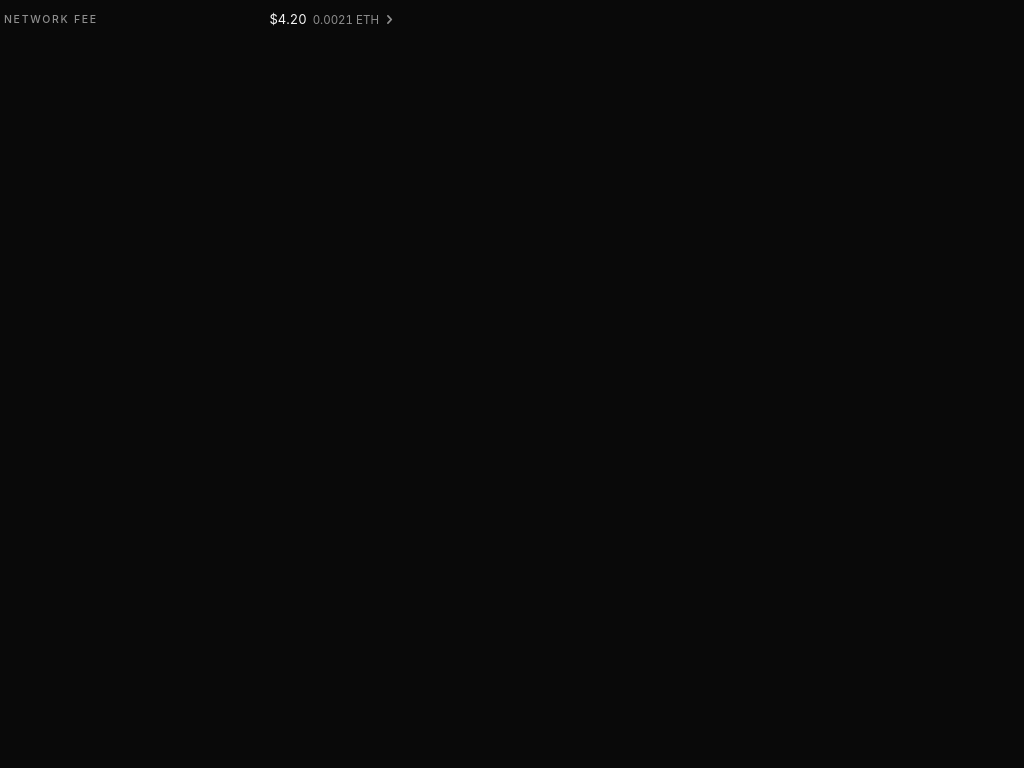
Test case: Network fee row › keeps Use custom fee off and explains in a card when below the base fee
Later steps or results of the test are not shown.
Click the button with aria-label "Edit network fee": point(51, 20) [0,0,400,40]
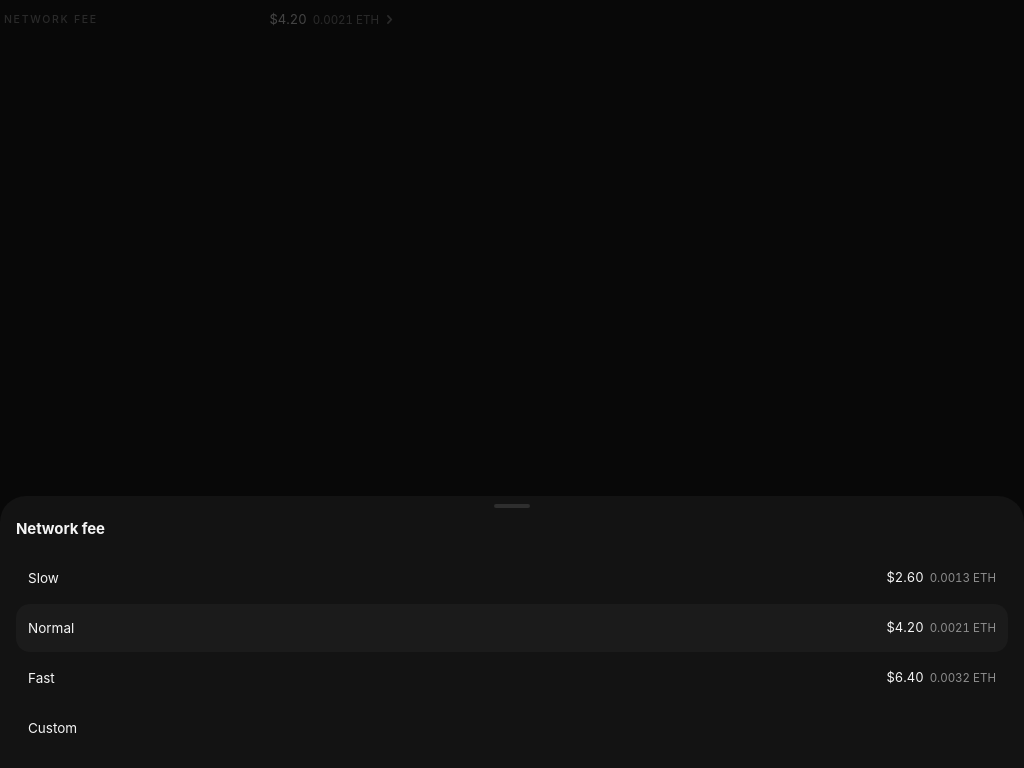
Click the button "Custom": point(53, 728) [16,704,1008,752]
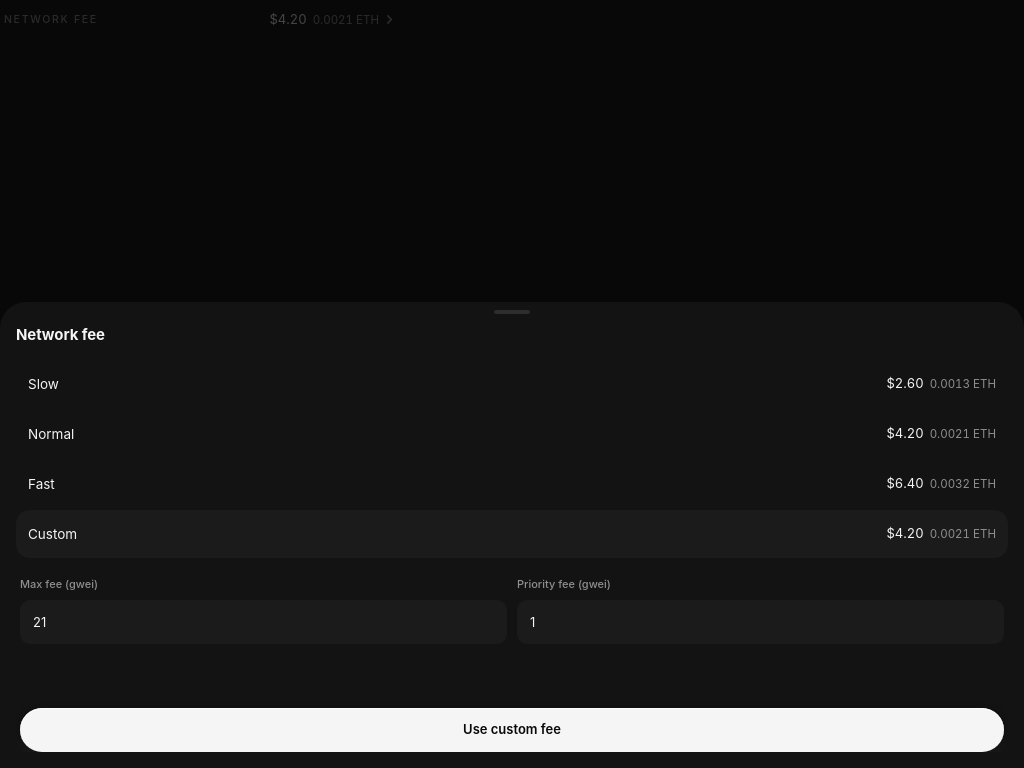
Replace the text in the field named "Max fee (gwei)" with "9": point(264, 622) [20,600,507,644]
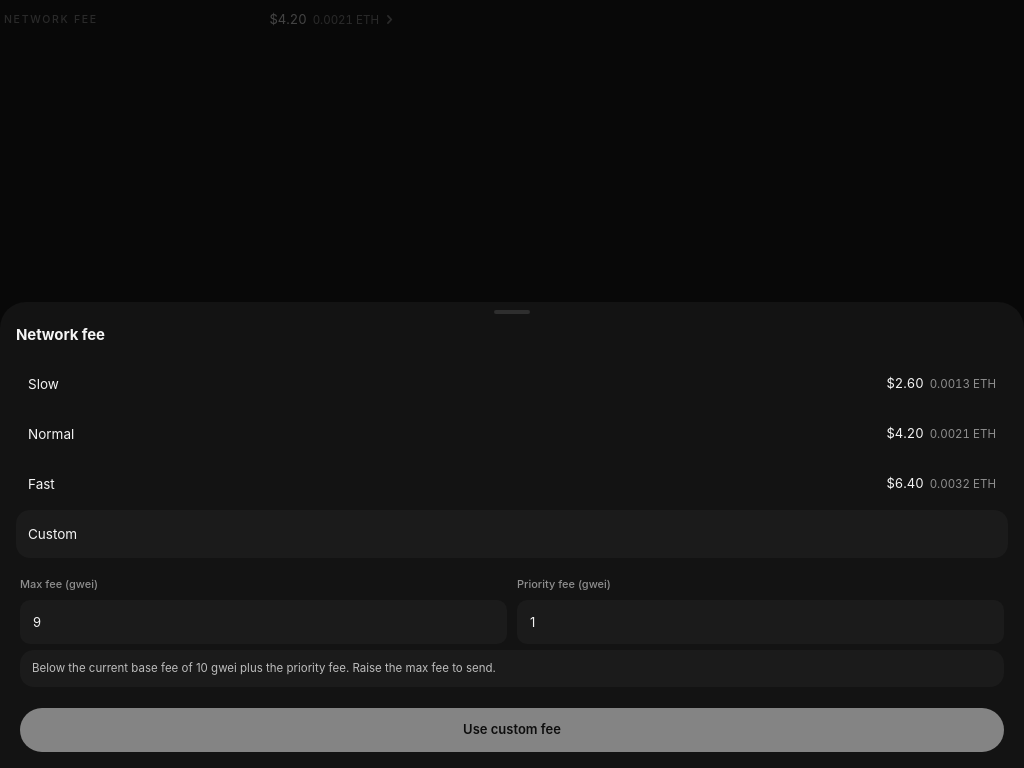
Check: the text "Below the current base fee of 10 gwei" is shown, box [32,661,496,675]
Check: the button "Use custom fee" is disabled, box [20,708,1004,752]
